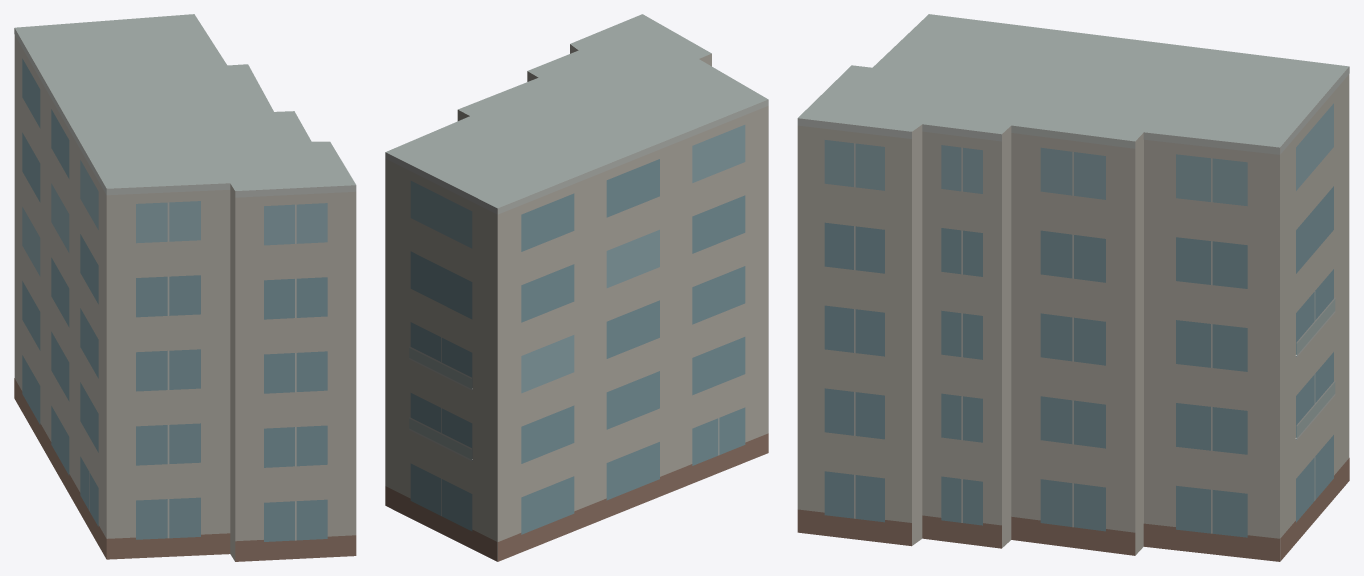
The model's file is survey-upis-32887547.glb.
The picture shows the model from 3 angles, left to right: view 1: azimuth 30°, elevation 25°; view 2: azimuth 150°, elevation 25°; view 3: azimuth 270°, elevation 25°; orthographic projection. The views are drawn at different scales.
Parts seen in each view (by area): view 1: survey-upis-32887547.tmp; view 2: survey-upis-32887547.tmp; view 3: survey-upis-32887547.tmp.
Part boxes in pixels (x1,y1,x2,y2): survey-upis-32887547.tmp: [14, 14, 356, 561]; survey-upis-32887547.tmp: [385, 14, 768, 561]; survey-upis-32887547.tmp: [797, 14, 1349, 561].
Size of the model in its own units: 9.55 by 13.8 by 16.67.
